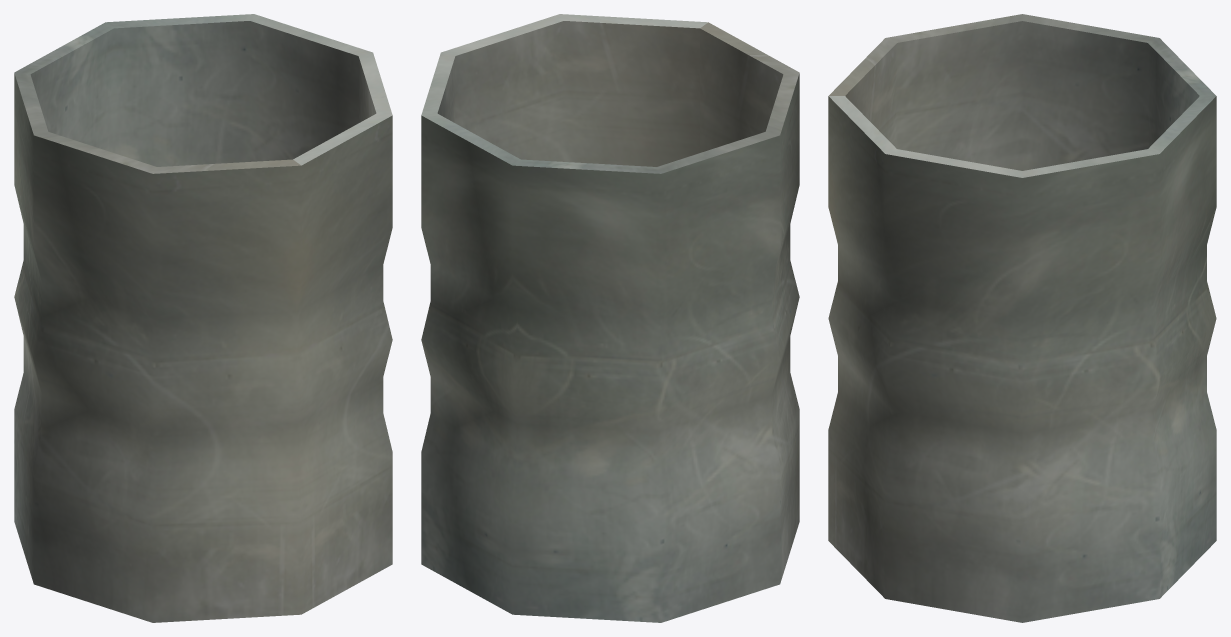
File: red can.fbx
3 renders of one model, left to right at view 1: azimuth 30°, elevation 25°; view 2: azimuth 150°, elevation 25°; view 3: azimuth 270°, elevation 25°, orthographic.
Visible parts, largest first — view 1: red_can; view 2: red_can; view 3: red_can.
Part boxes in pixels (x1=…): red_can: x1=14, y1=14, x2=392, y2=622; red_can: x1=421, y1=14, x2=799, y2=622; red_can: x1=828, y1=14, x2=1216, y2=622.
Bounding box in the file's own units: 0.1437 × 0.1818 × 0.1437.
